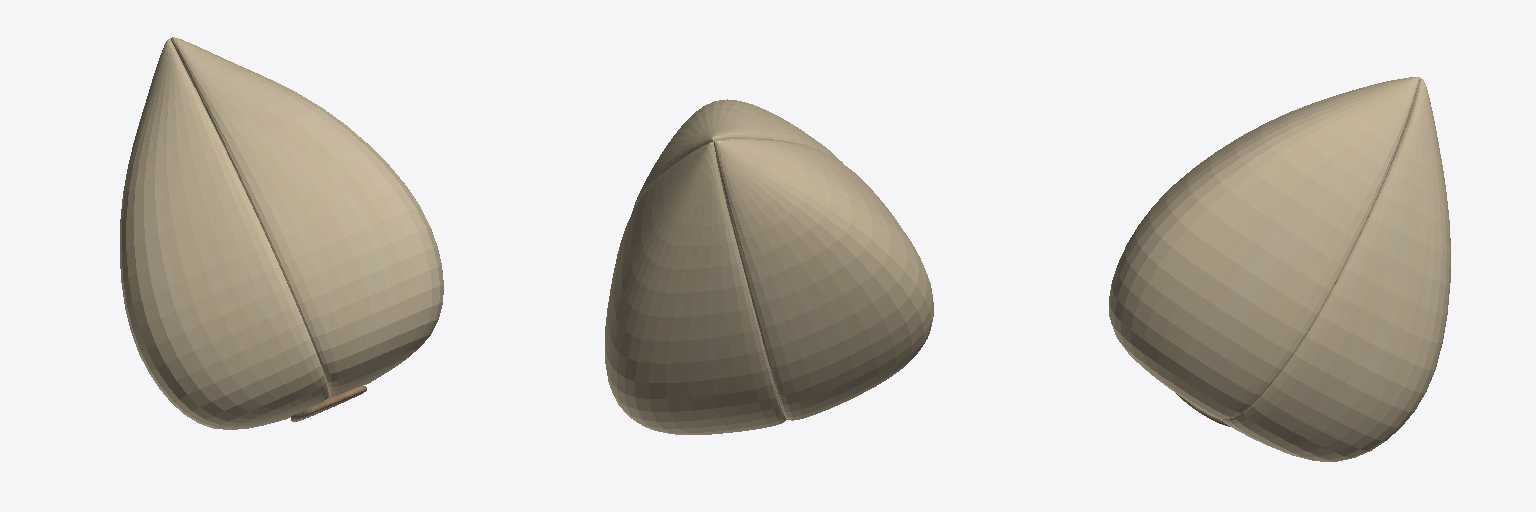
3 renders of one model, left to right at view 1: azimuth 30°, elevation 25°; view 2: azimuth 150°, elevation 25°; view 3: azimuth 270°, elevation 25°, orthographic.
Parts seen in each view (by area): view 1: GrainBuckwheat010; view 2: GrainBuckwheat010; view 3: GrainBuckwheat010.
Part boxes in pixels (bbox=[...]): GrainBuckwheat010: bbox=[120, 37, 443, 429]; GrainBuckwheat010: bbox=[605, 99, 933, 434]; GrainBuckwheat010: bbox=[1109, 77, 1450, 461].
Bounding box in the file's own units: 0.0251 × 0.03 × 0.0271.
1 materials, 1 textured.